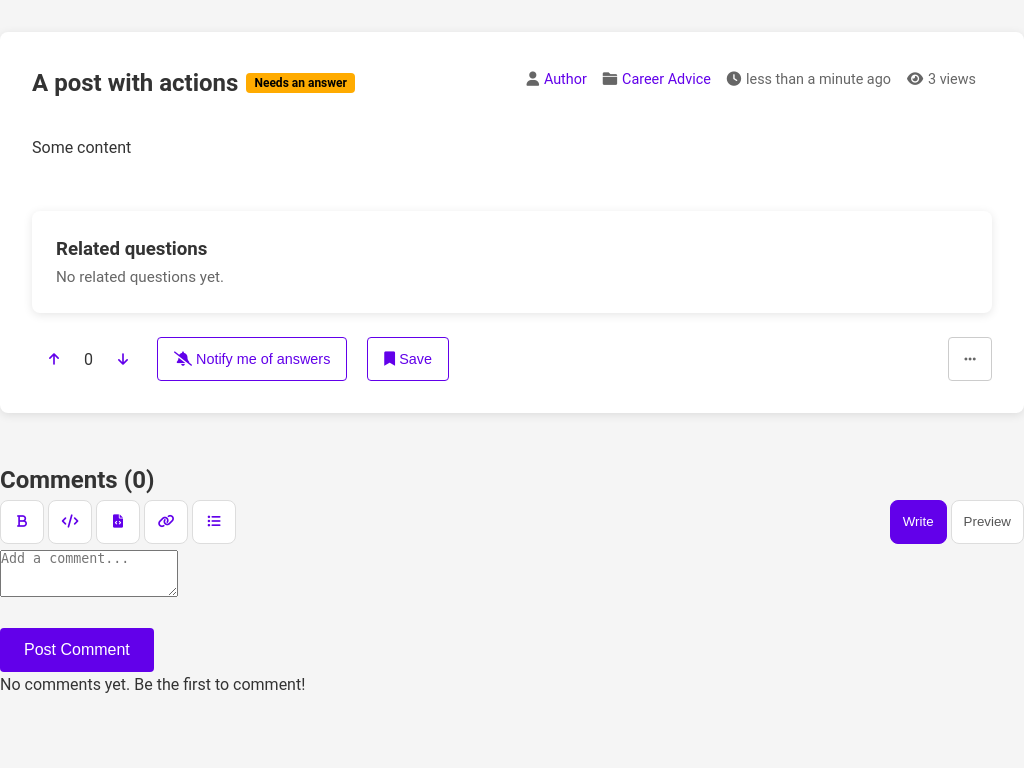
PostDetail voting and moderation actions preserve populated post fields › moves the thread to the chosen category and keeps the author link intact
Expected: the heading "A post with actions" is shown, [32, 64, 238, 102]
Click the button named "more actions".
click(970, 359)  # box [948, 337, 992, 381]
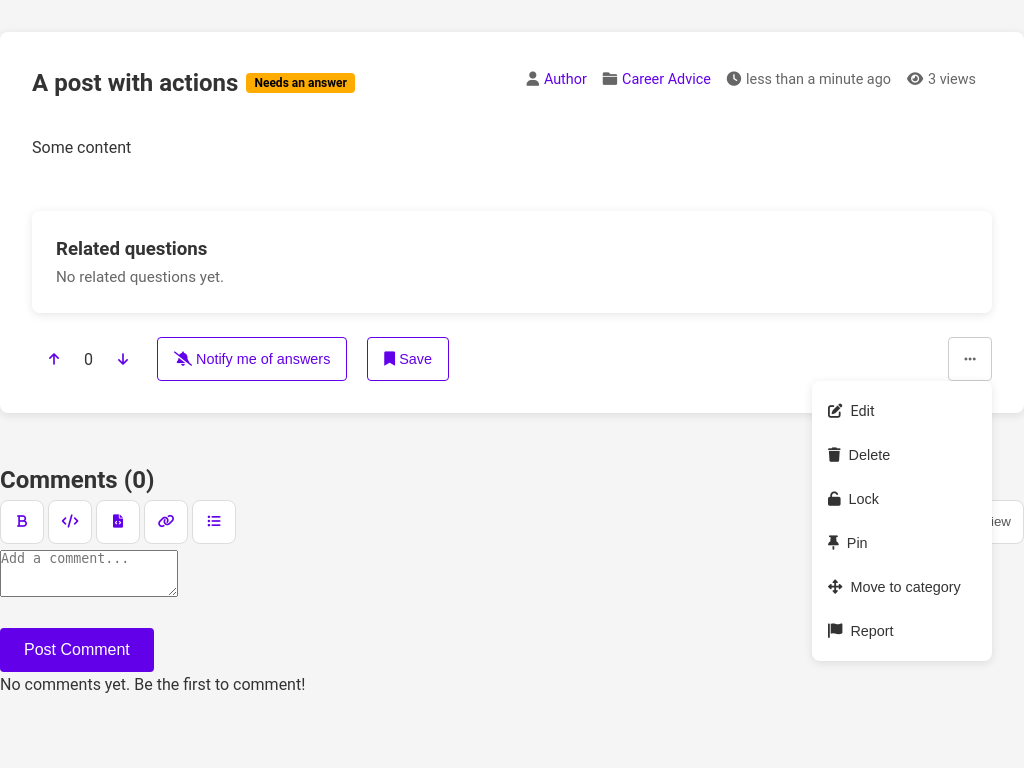
Click the button "Move to category".
click(902, 587)  # box [812, 565, 992, 609]
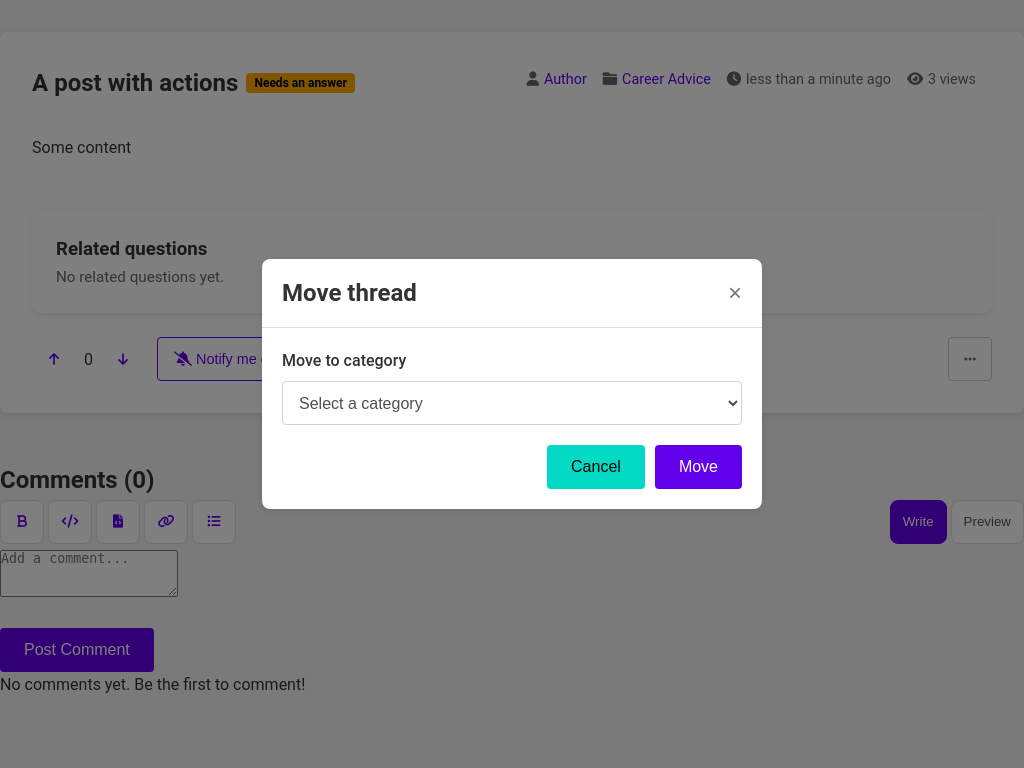
Select "Interview Prep" in the dropdown labelled "Move to category" at (512, 404), box [282, 382, 742, 426]
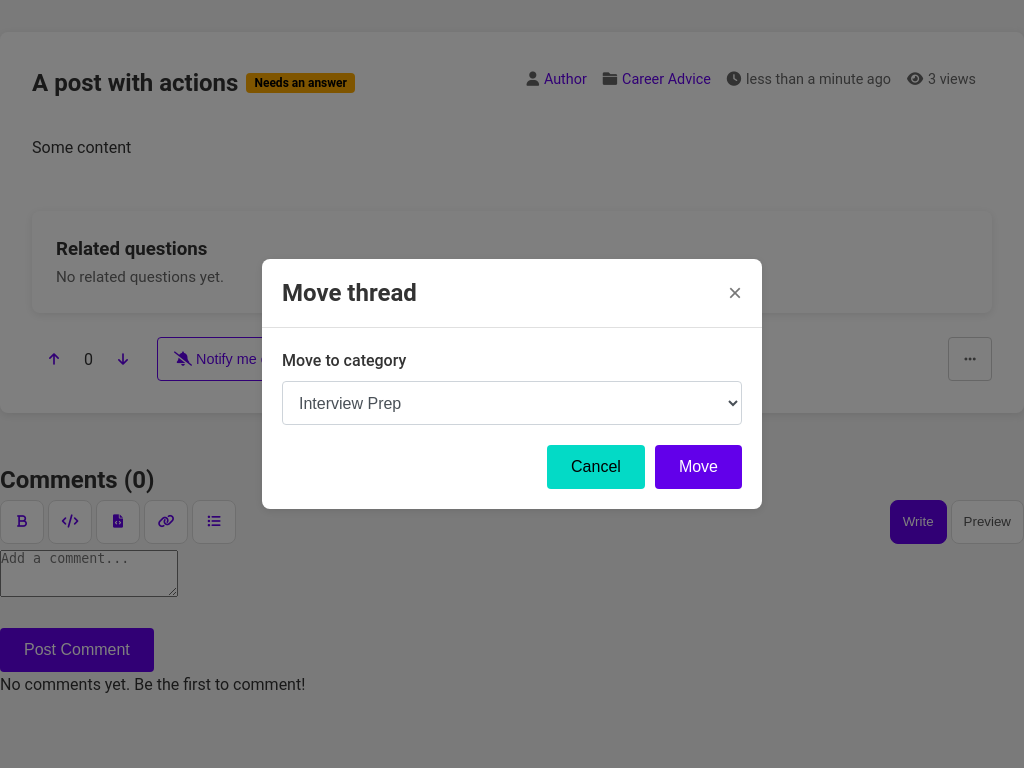
Click the button "Move".
click(698, 468)  # box [655, 446, 742, 490]
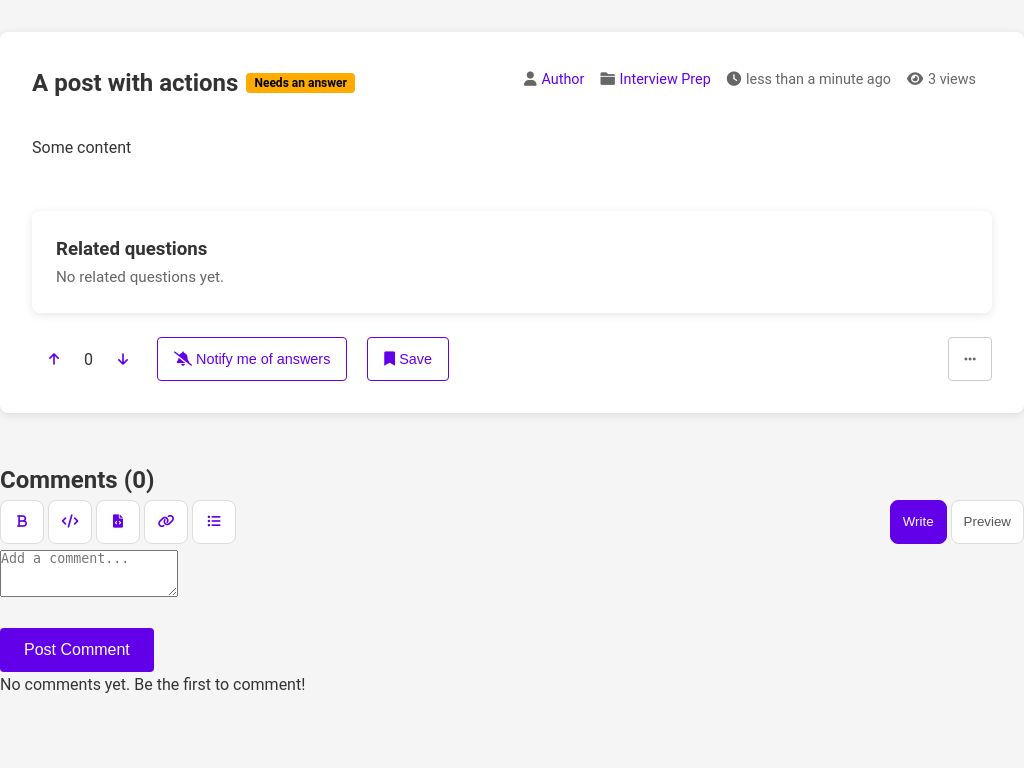
Expected: the label labelled "Move to category" is gone
